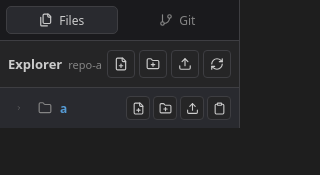
Test case: FileExplorer › refreshes loaded nested directories from the toolbar button
This screenshot has width=320, height=175.
Click the button named "Expand a": (19, 108) [10,96,28,120]
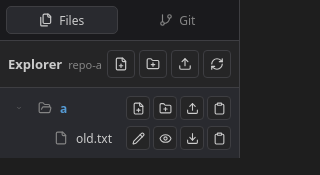
Click the button named "Refresh file explorer": (217, 64) [203,50,231,78]
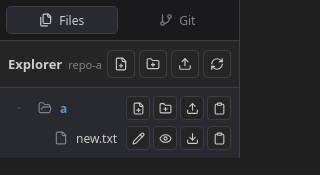
Now the button titled "/repo-a/a/old.txt" is gone
